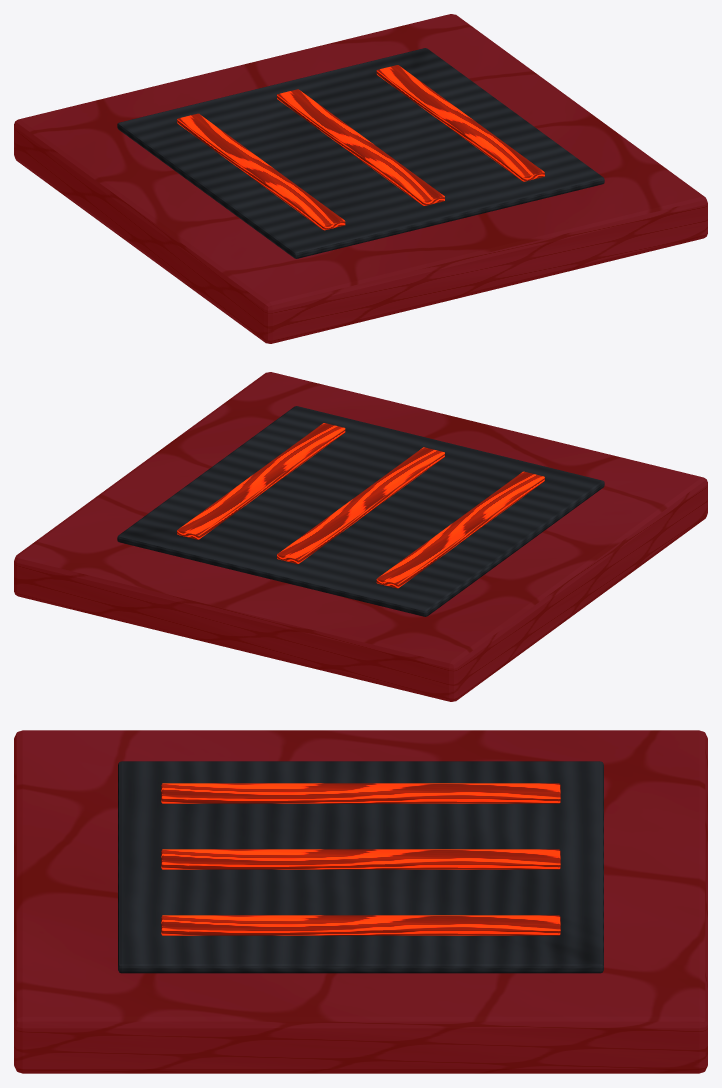
The model's file is SM_FC_HotPlatform_400.glb.
3 views of the same model, one above another, from view 1: azimuth 30°, elevation 25°; view 2: azimuth 150°, elevation 25°; view 3: azimuth 270°, elevation 25° (orthographic). The views are drawn at different scales.
Visible parts, largest first — view 1: SM_FC_HotPlatform_400; view 2: SM_FC_HotPlatform_400; view 3: SM_FC_HotPlatform_400.
Boxes of the visible parts, <box> form: SM_FC_HotPlatform_400: <box>14,14,707,343</box>; SM_FC_HotPlatform_400: <box>14,372,707,701</box>; SM_FC_HotPlatform_400: <box>14,730,707,1073</box>.
Size of the model in its own units: 4 by 0.4725 by 4.
Materials: 3 (3 with a texture image).
